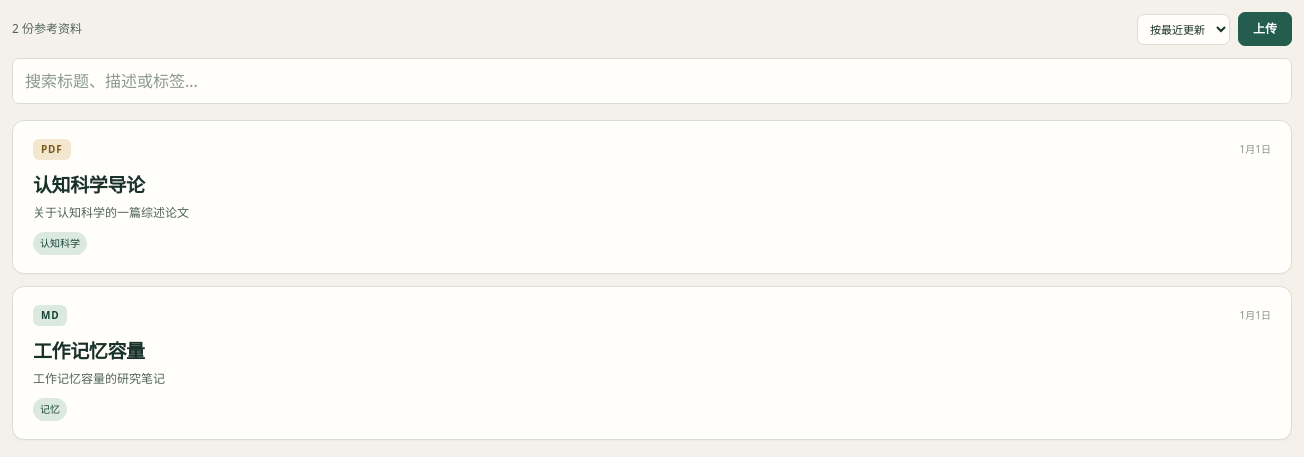
ReferenceList › 搜索按标题过滤
Type "工作记忆" into the field with class "search-input".
click(652, 81); type("工作记忆")  # box [12,58,1292,104]
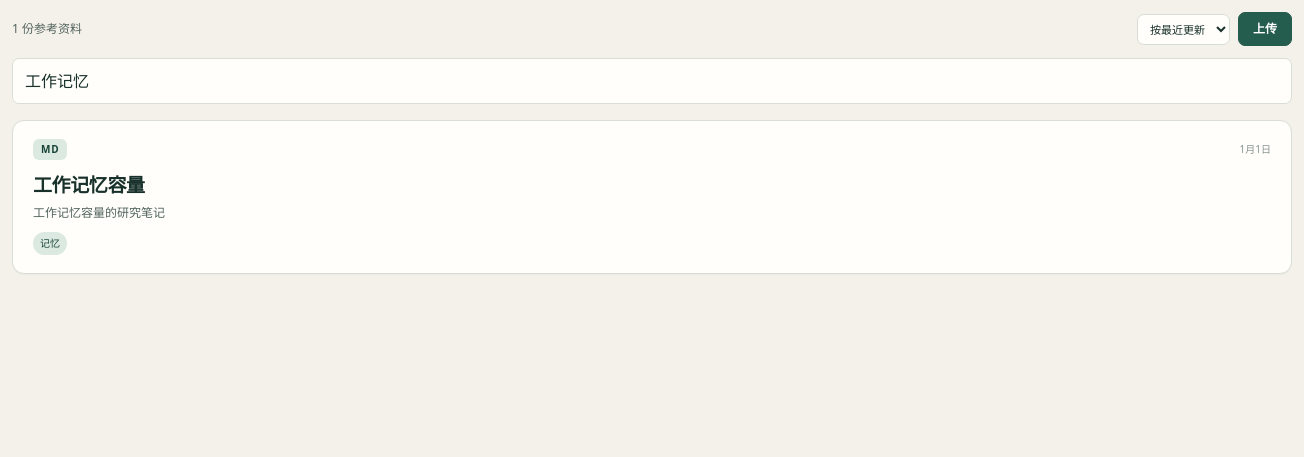
Expected: the text "工作记忆容量" is shown, [33,175,145,196]
Expected: the number of elements with class "reference-card" is 1, [12,120,1292,274]
